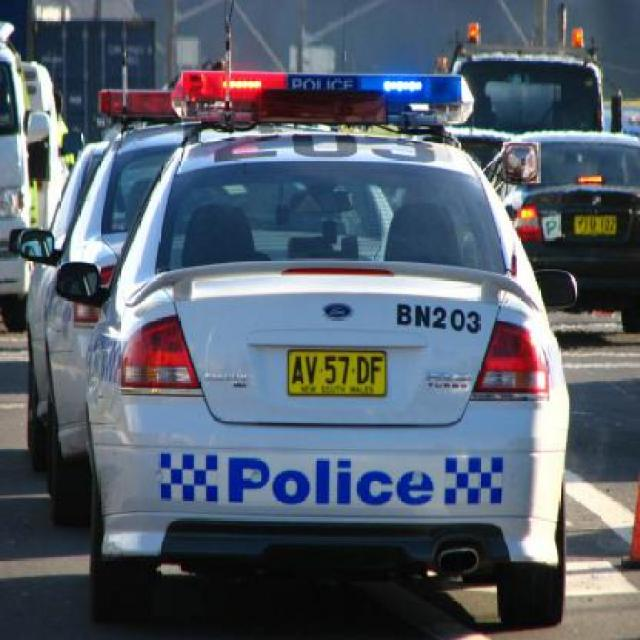truck: (56, 74, 572, 626), (19, 92, 204, 528), (24, 90, 176, 452), (494, 127, 638, 331)
